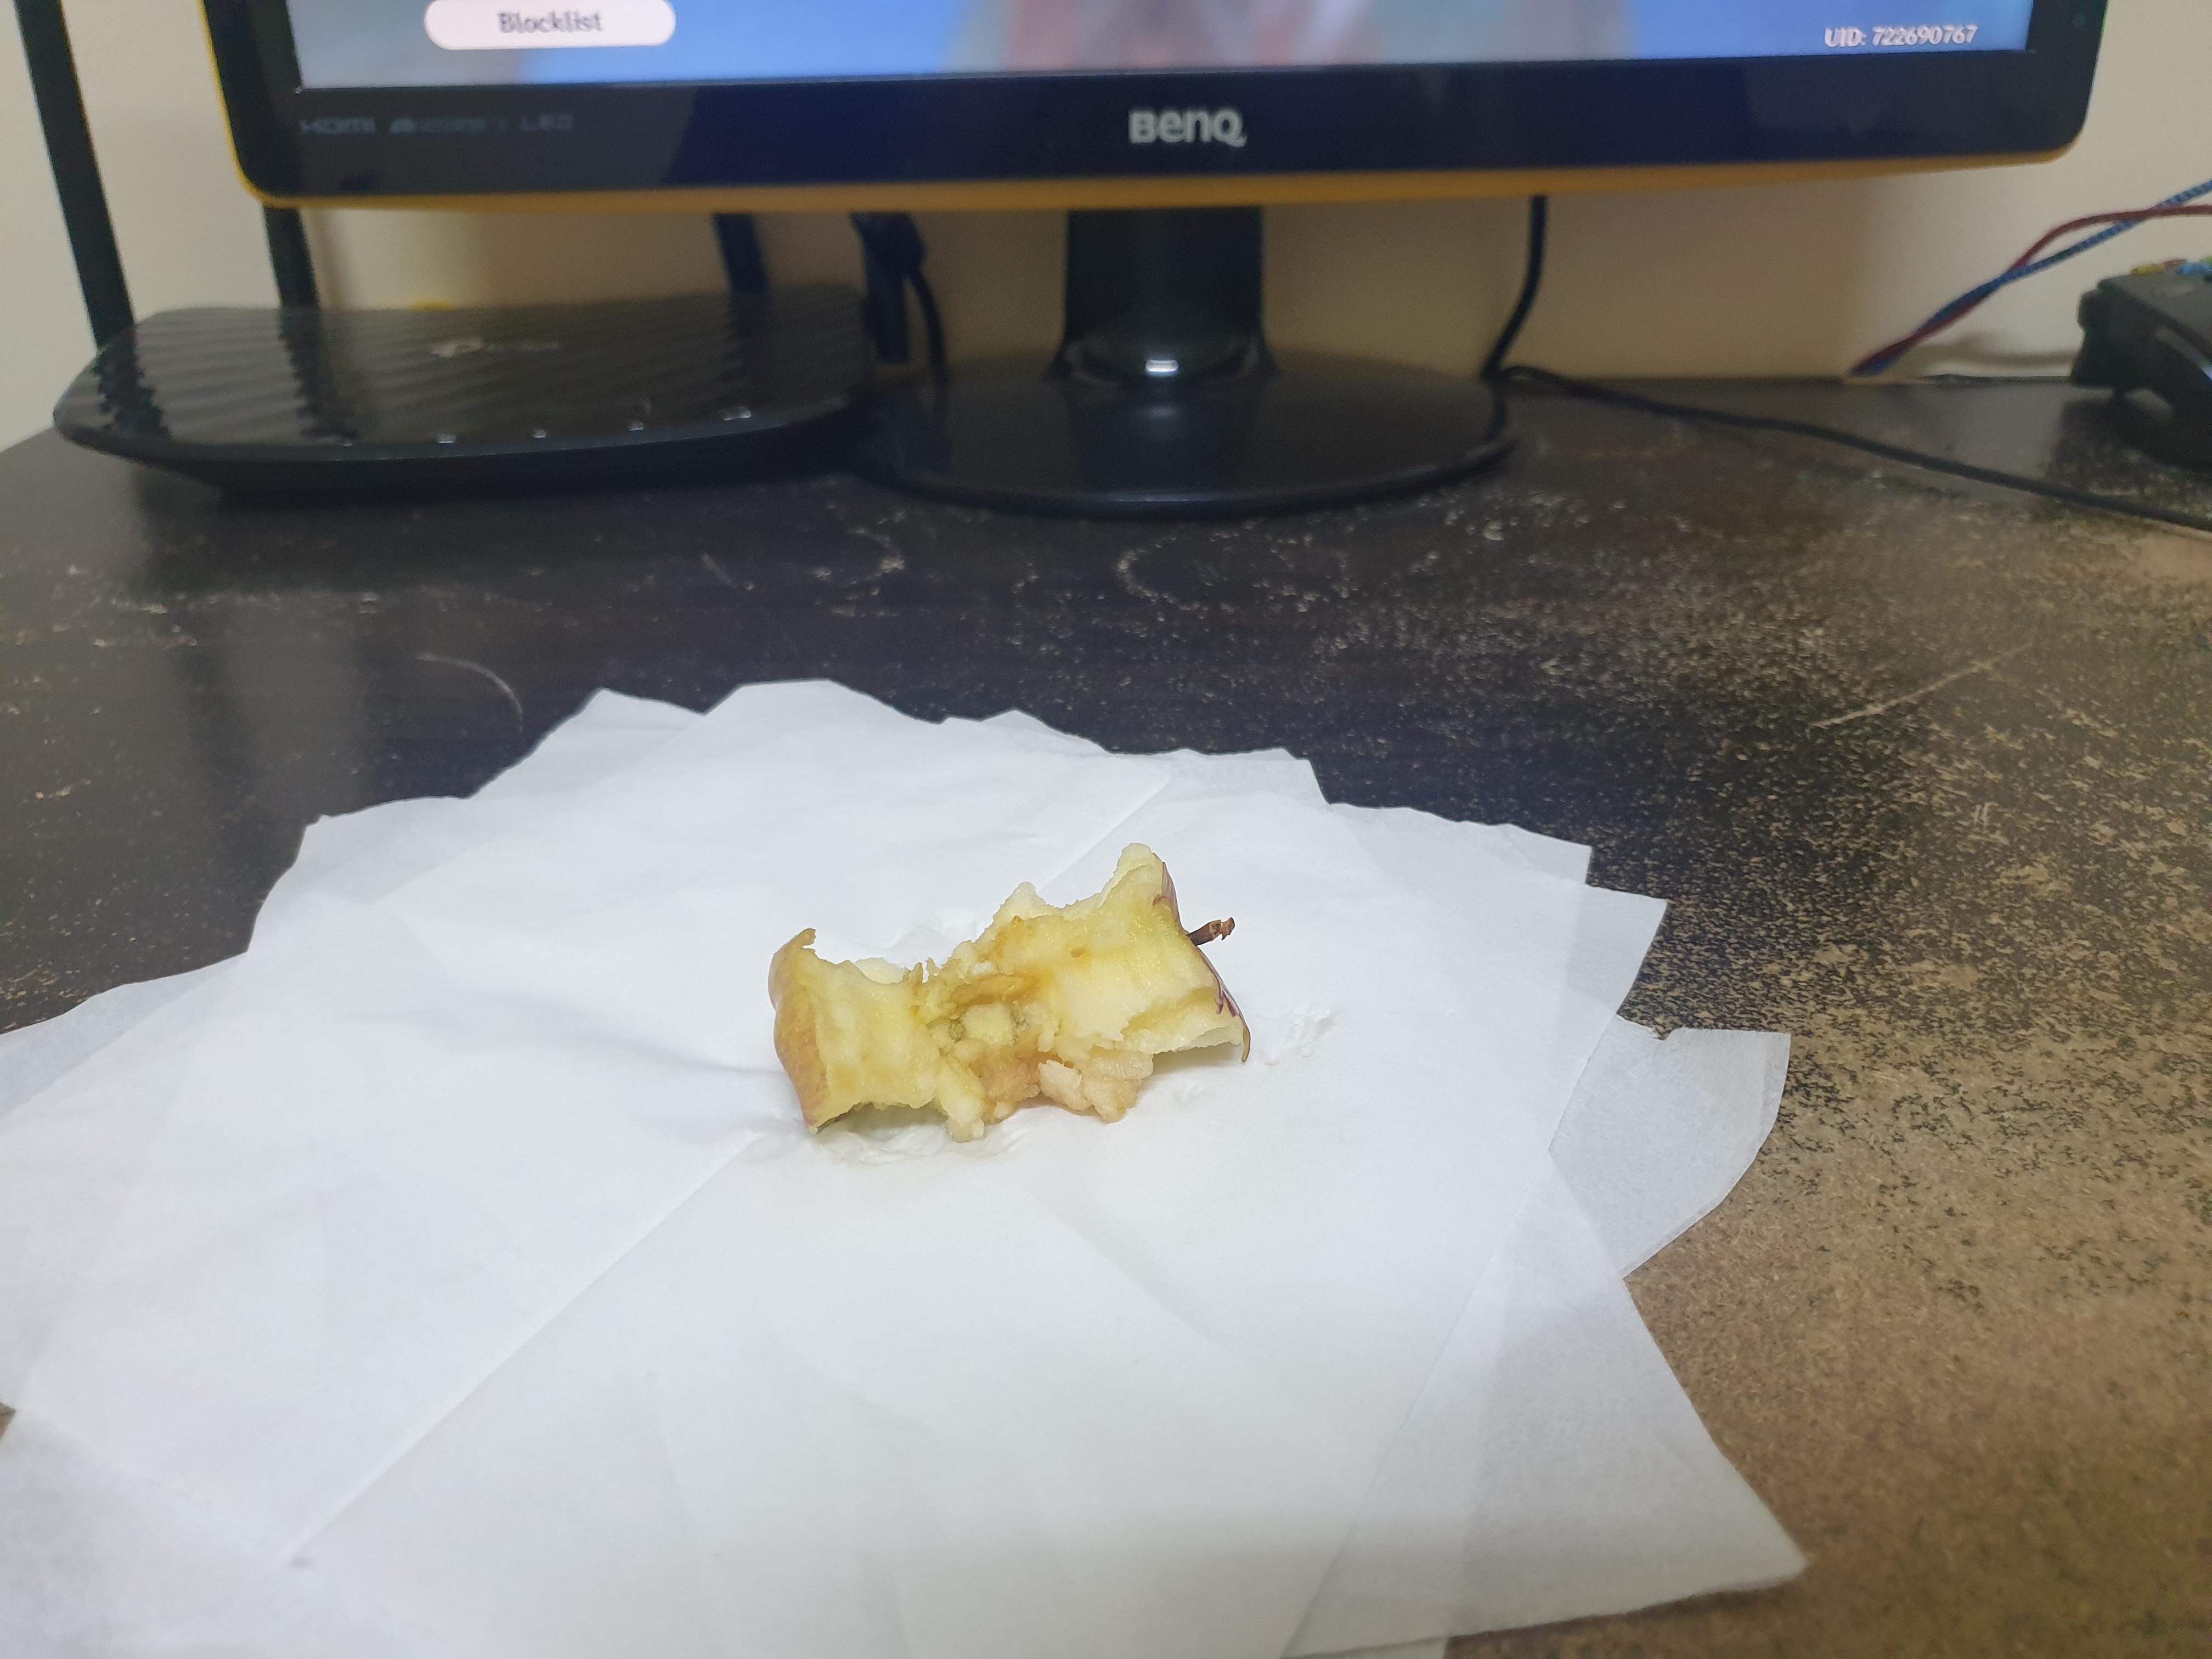Apple: (758, 835, 1259, 1154)
